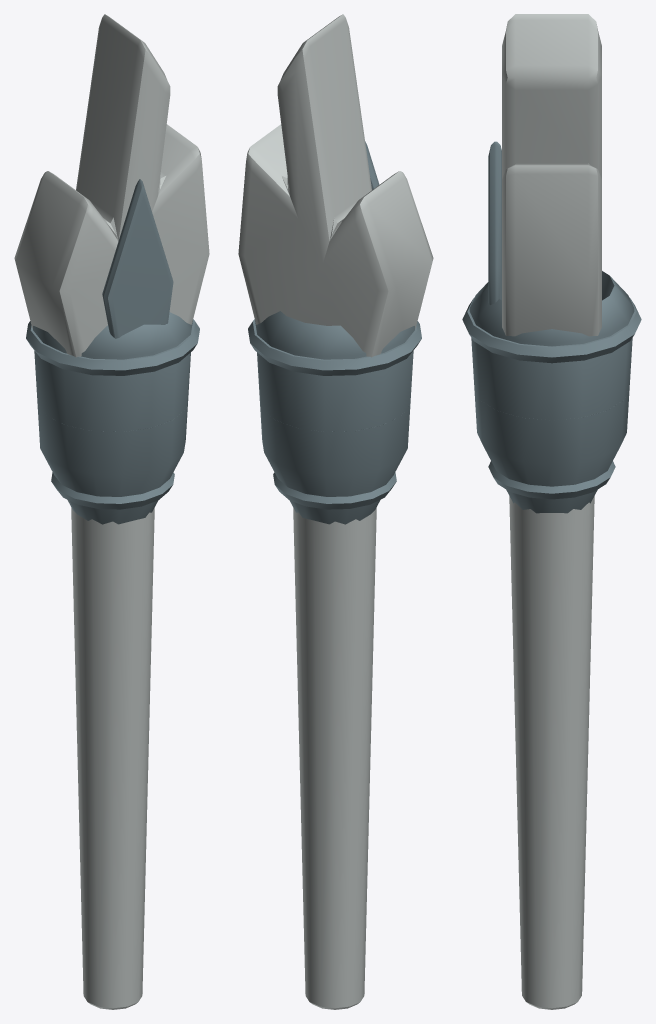
The model's file is torch.glb.
The picture shows the model from 3 angles, left to right: view 1: azimuth 30°, elevation 25°; view 2: azimuth 150°, elevation 25°; view 3: azimuth 270°, elevation 25°; orthographic projection. The views are drawn at different scales.
Visible parts, largest first — view 1: wood_handle, flame, torch_cage, inner_flame, cage_band.002, cage_band; view 2: flame, wood_handle, torch_cage, cage_band.002, cage_band; view 3: wood_handle, flame, torch_cage, cage_band.002, inner_flame, cage_band.
Boxes of the visible parts, bbox=[...] form: wood_handle: bbox=[71, 508, 154, 1009]; flame: bbox=[14, 14, 209, 357]; torch_cage: bbox=[33, 312, 192, 524]; inner_flame: bbox=[102, 179, 173, 338]; cage_band.002: bbox=[26, 319, 199, 375]; cage_band: bbox=[51, 472, 174, 509]; flame: bbox=[238, 14, 433, 357]; wood_handle: bbox=[293, 508, 376, 1009]; torch_cage: bbox=[255, 311, 414, 524]; cage_band.002: bbox=[248, 319, 421, 375]; cage_band: bbox=[273, 472, 396, 509]; wood_handle: bbox=[509, 496, 594, 1009]; flame: bbox=[502, 14, 601, 336]; torch_cage: bbox=[469, 271, 634, 513]; cage_band.002: bbox=[462, 298, 641, 363]; inner_flame: bbox=[488, 141, 501, 304]; cage_band: bbox=[488, 461, 615, 499].
Bounding box in the file's own units: 0.148 × 0.8742 × 0.1436.
